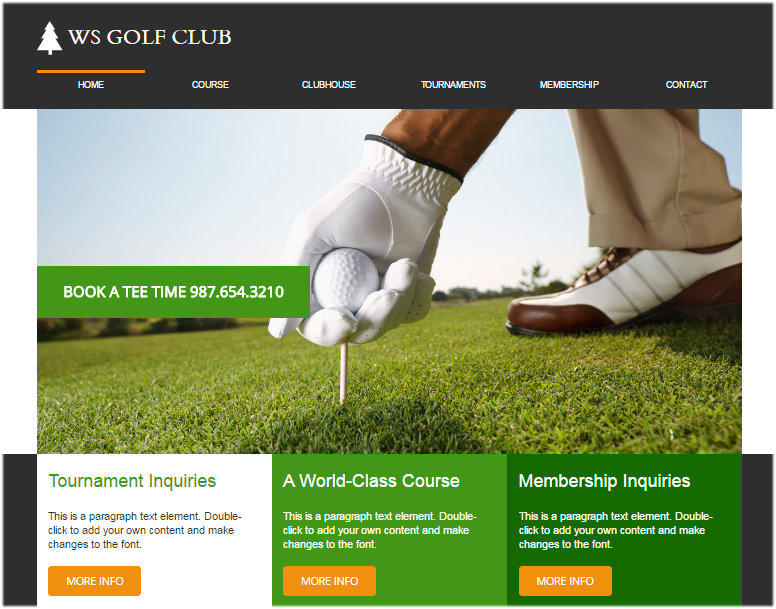Button: (46, 564, 138, 597), (518, 566, 611, 597), (285, 566, 374, 595)
Image: (36, 108, 740, 451), (29, 17, 235, 65)
Menu Bar: (37, 65, 730, 96)
